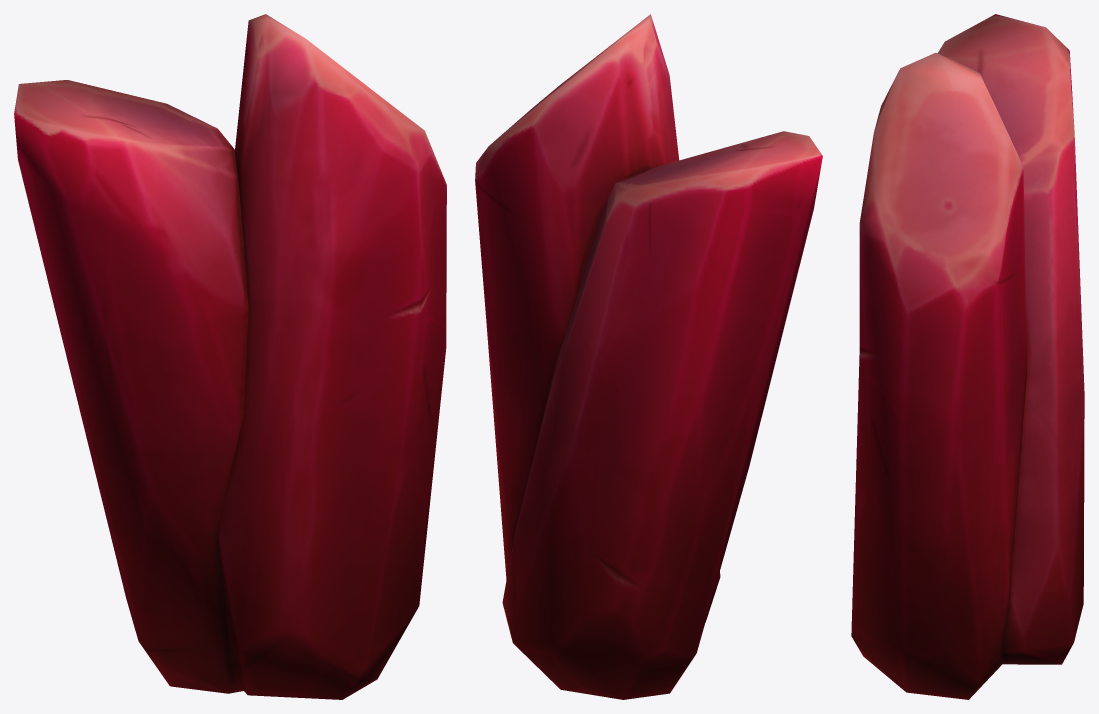
File: SM_Gem_Ruby_001.fbx
The picture shows the model from 3 angles, left to right: view 1: azimuth 30°, elevation 25°; view 2: azimuth 150°, elevation 25°; view 3: azimuth 270°, elevation 25°; orthographic projection. The views are drawn at different scales.
Parts seen in each view (by area): view 1: SM_Gem_Ruby_001; view 2: SM_Gem_Ruby_001; view 3: SM_Gem_Ruby_001.
Part boxes in pixels (box(x1,y1,x2,y2)): SM_Gem_Ruby_001: box(14, 14, 446, 699); SM_Gem_Ruby_001: box(475, 14, 822, 699); SM_Gem_Ruby_001: box(851, 14, 1084, 699).
Bounding box in the file's own units: 33.69 × 56 × 19.46.
